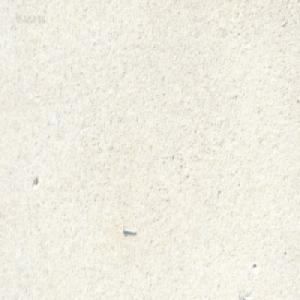Nail: (121, 225, 136, 235)
